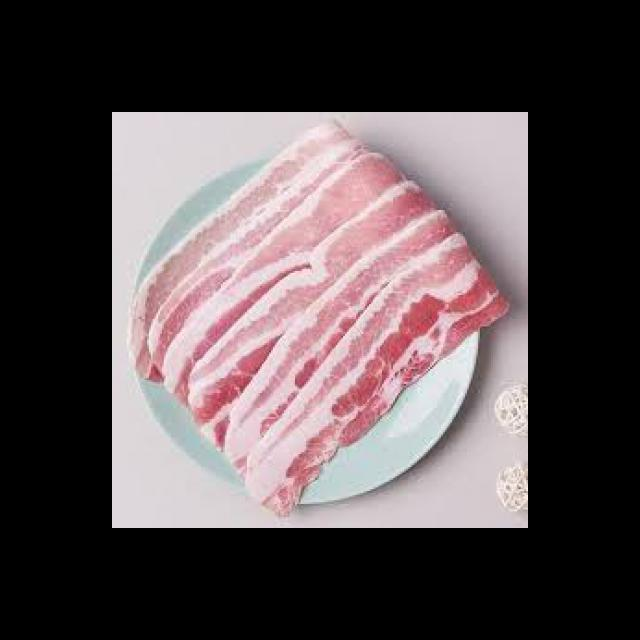pork: (171, 193, 456, 460)
